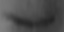LeftEyeFatigue: (1, 8, 59, 32)
